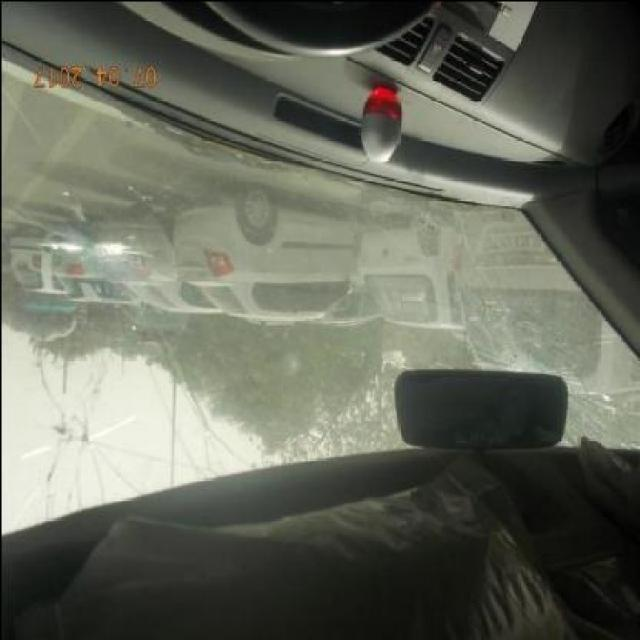damage: (450, 282, 593, 424), (30, 350, 122, 493)
